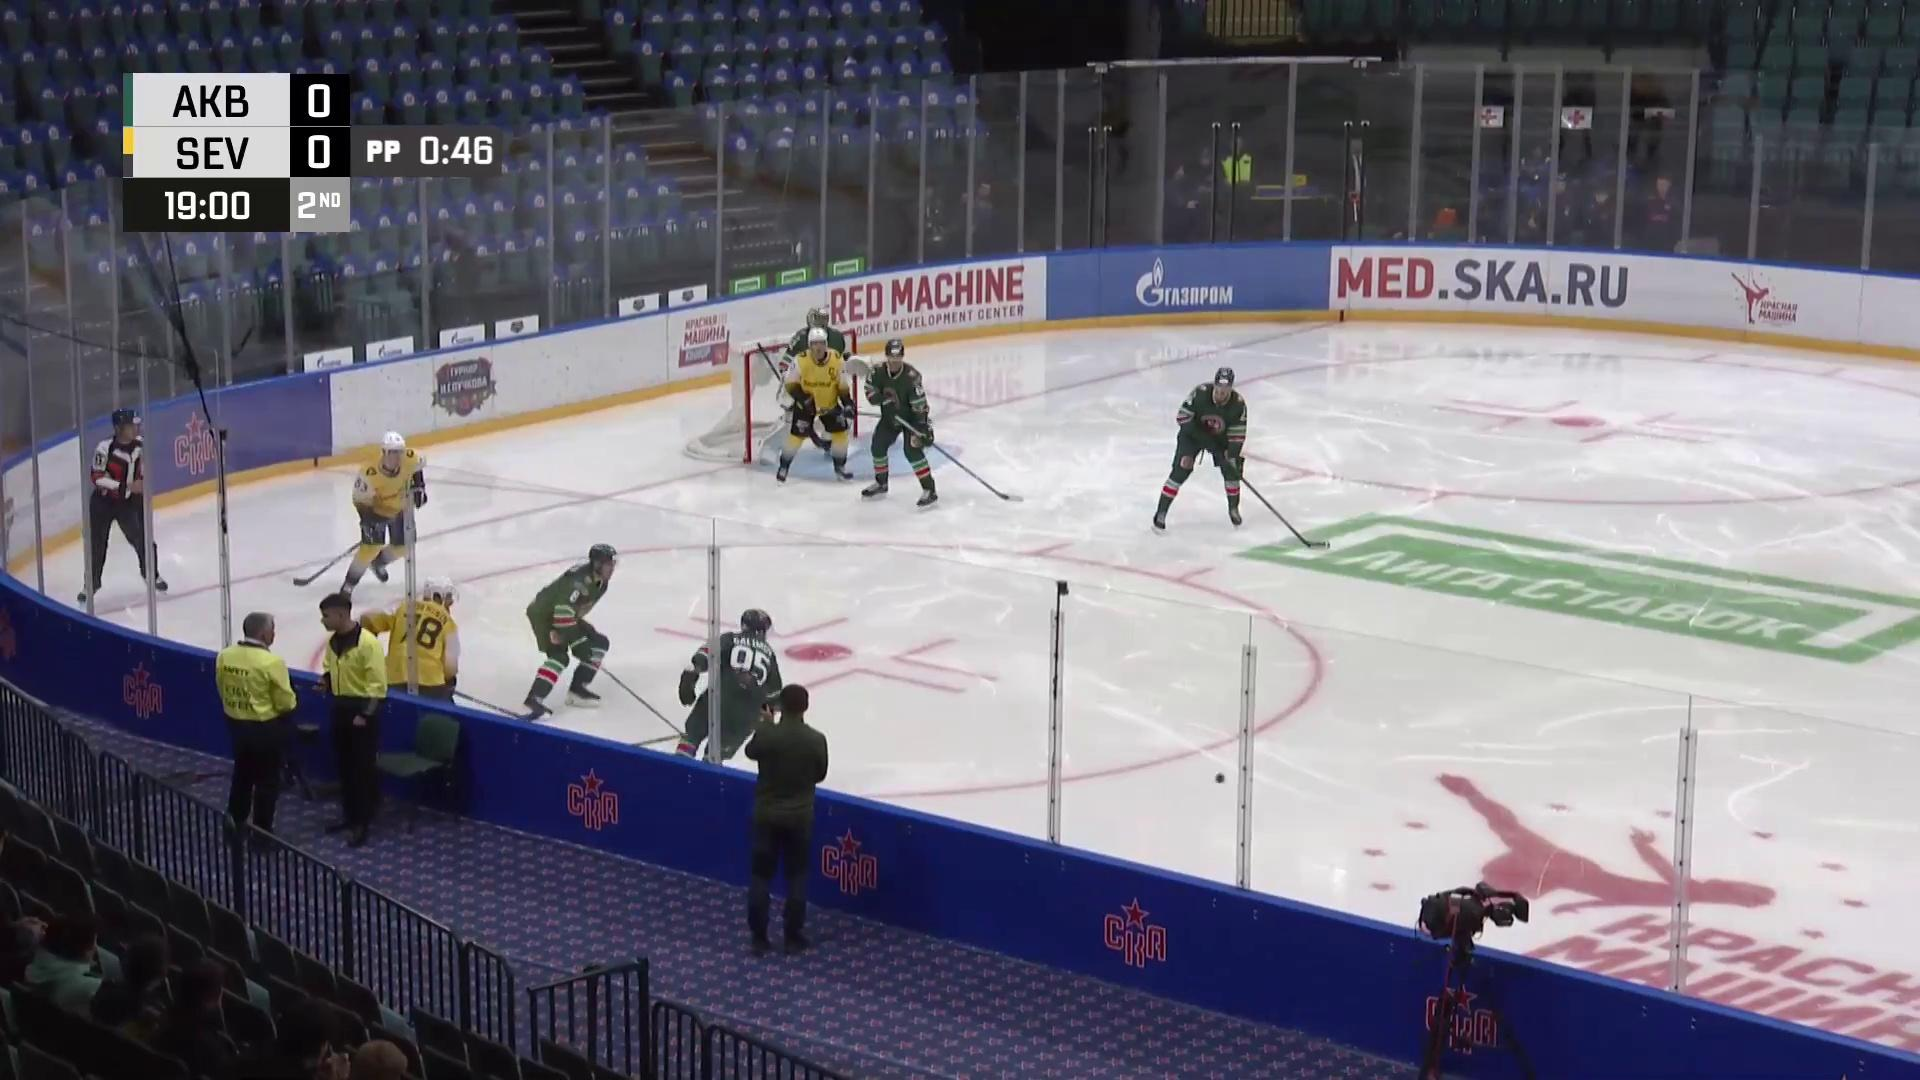ball: (1215, 773, 1225, 785)
